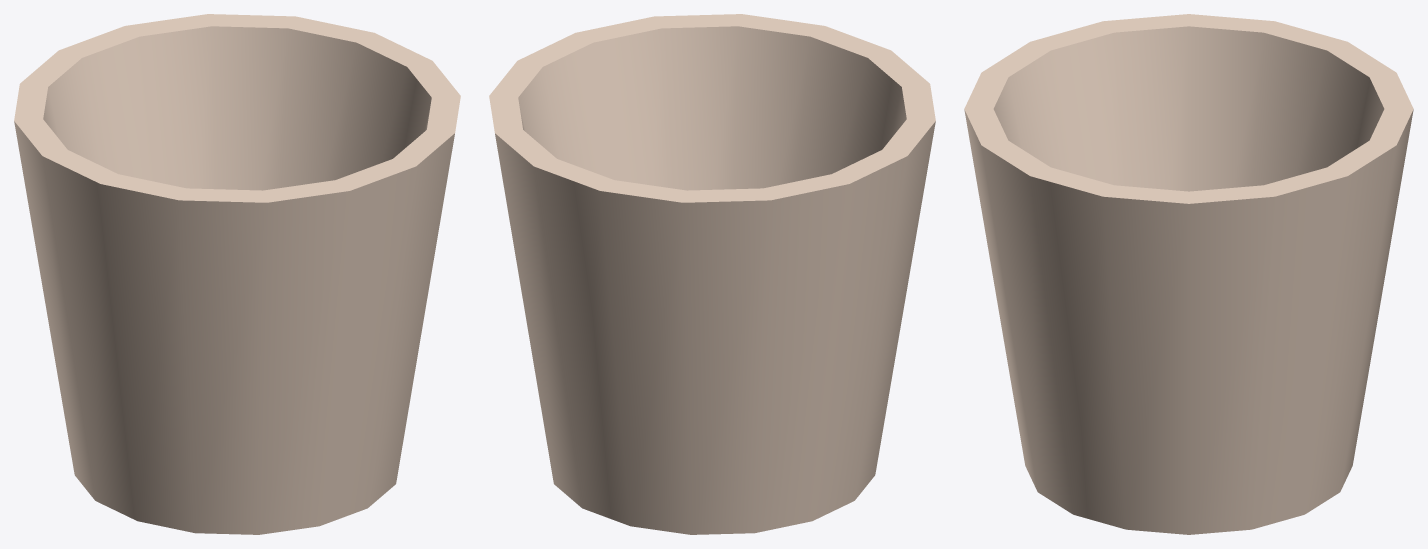
Rendered from TrashbinDefault.fbx.
3 renders of one model, left to right at view 1: azimuth 30°, elevation 25°; view 2: azimuth 150°, elevation 25°; view 3: azimuth 270°, elevation 25°, orthographic.
Parts seen in each view (by area): view 1: trash_bin_001.001; view 2: trash_bin_001.001; view 3: trash_bin_001.001.
Part boxes in pixels (x1,y1,x2,y2): trash_bin_001.001: (14, 14, 460, 534); trash_bin_001.001: (489, 14, 935, 534); trash_bin_001.001: (964, 14, 1413, 534).
Size of the model in its own units: 40 by 35.04 by 40.
